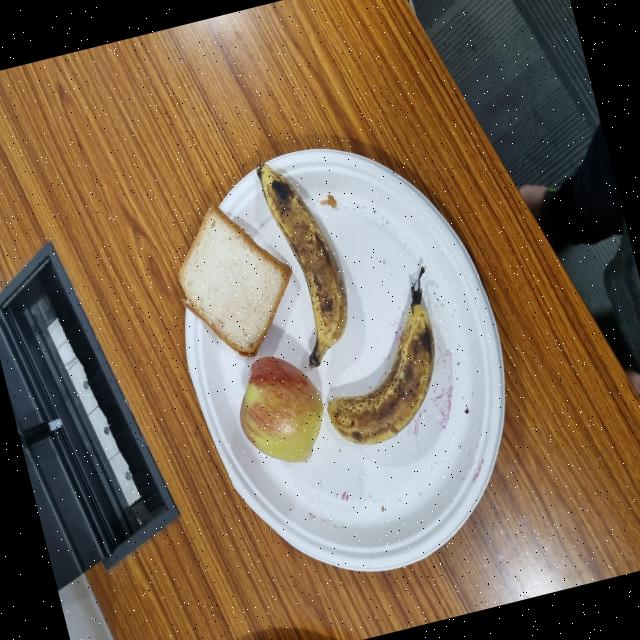apple: (152, 326, 235, 439)
banana: (176, 440, 312, 591), (230, 386, 383, 483)
